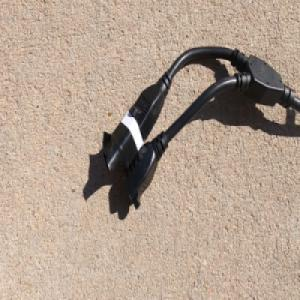Wire: (100, 44, 300, 212)
